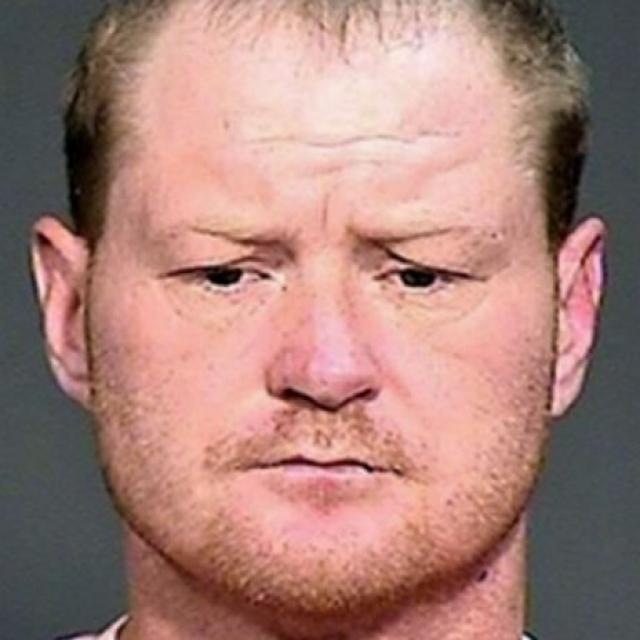Depress: (87, 7, 556, 612)
